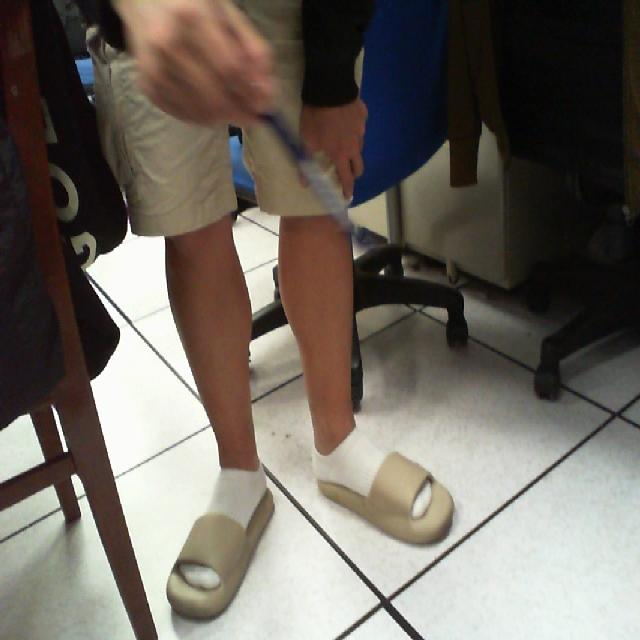Pen: (230, 76, 384, 267)
